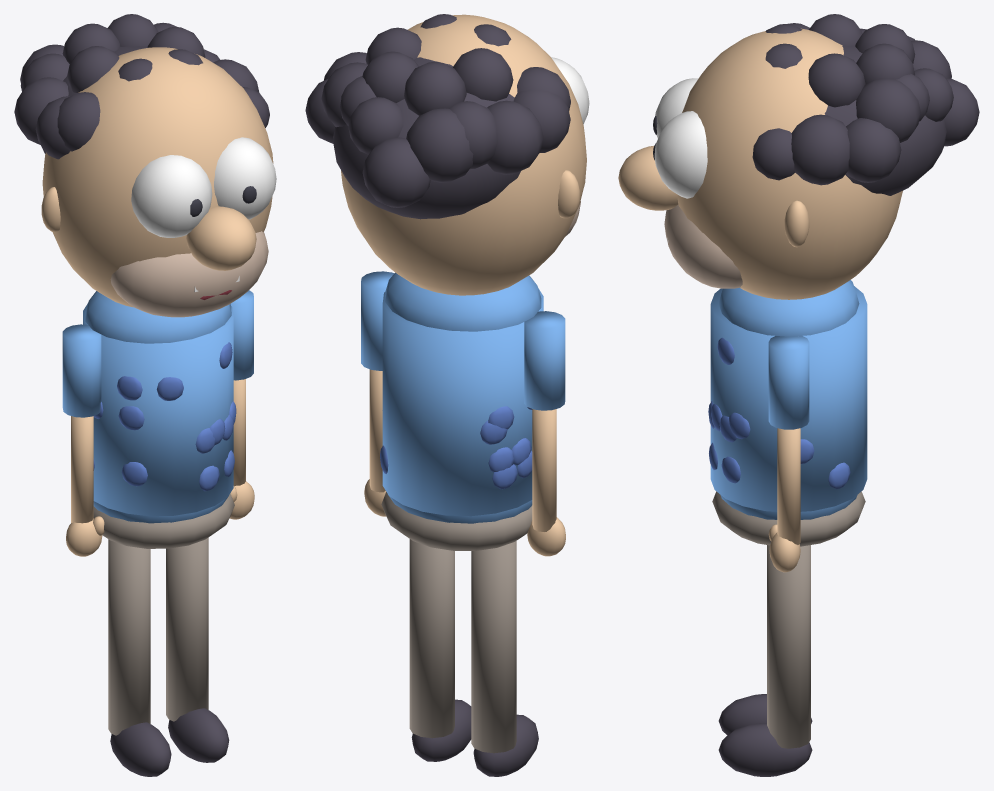
File: Char_TownMan.fbx
3 renders of one model, left to right at view 1: azimuth 30°, elevation 25°; view 2: azimuth 150°, elevation 25°; view 3: azimuth 270°, elevation 25°, orthographic. The views are drawn at different scales.
Parts seen in each view (by area): view 1: Head, Torso, LegR, LegL, ArmR, ArmL; view 2: Head, Torso, LegR, LegL, ArmR, ArmL; view 3: Head, Torso, LegL, ArmL, LegR.
Part boxes in pixels (left/top/right/bottom): Head: left=14, top=14, right=276, bottom=317; Torso: left=83, top=291, right=236, bottom=548; LegR: left=108, top=539, right=171, bottom=776; LegL: left=166, top=537, right=229, bottom=762; ArmR: left=62, top=324, right=104, bottom=556; ArmL: left=229, top=290, right=254, bottom=519; Head: left=305, top=14, right=589, bottom=295; Torso: left=380, top=272, right=543, bottom=550; LegR: left=471, top=541, right=538, bottom=776; LegL: left=409, top=539, right=471, bottom=761; ArmR: left=524, top=311, right=565, bottom=556; ArmL: left=361, top=271, right=394, bottom=516; Head: left=618, top=14, right=979, bottom=299; Torso: left=708, top=280, right=867, bottom=546; LegL: left=718, top=545, right=812, bottom=776; ArmL: left=768, top=336, right=809, bottom=572; LegR: left=718, top=694, right=812, bottom=735.
Size of the model in its own units: 0.6811 by 2.04 by 0.9234.
